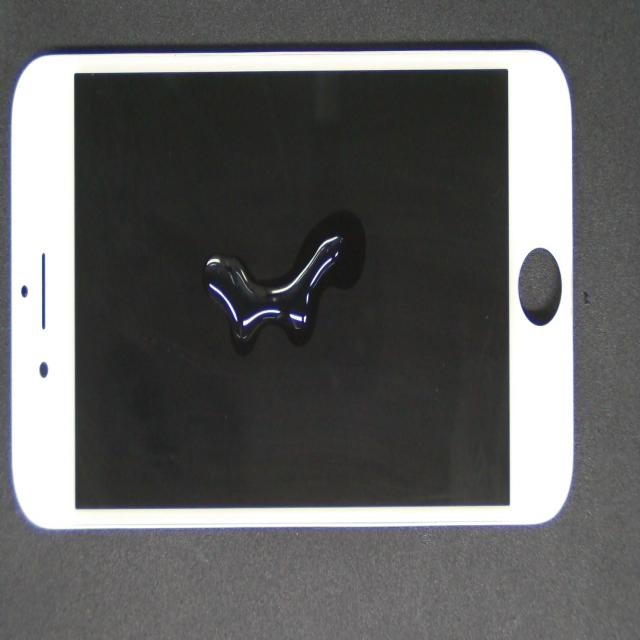oil: (101, 123, 306, 410)
